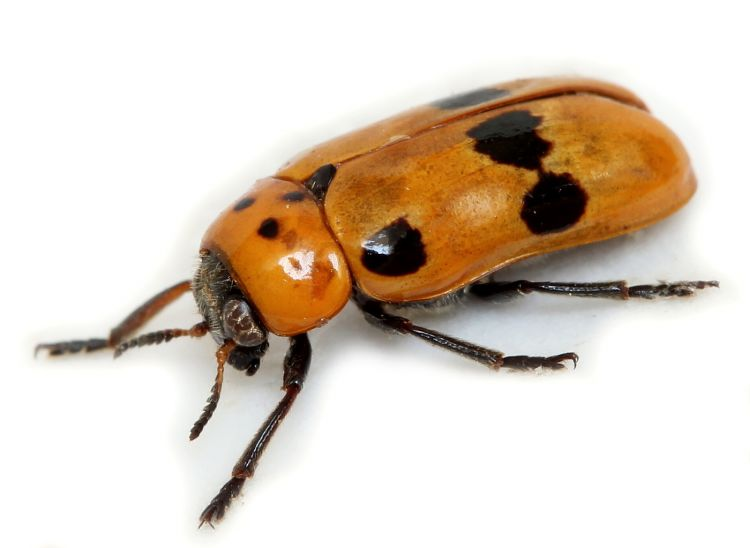Clytra_novempunctata: (24, 68, 722, 529)
